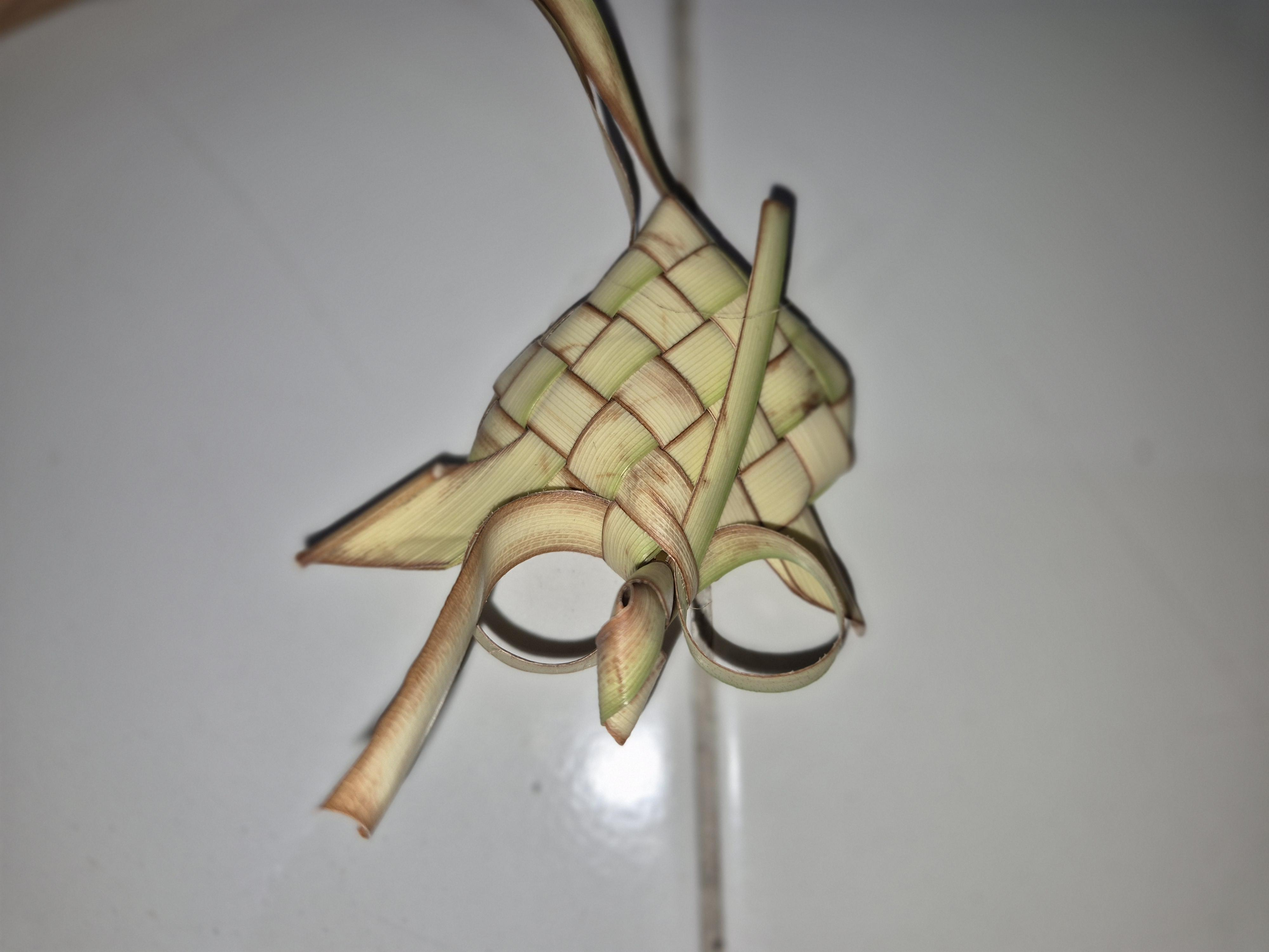Tipat Dampulan: (264, 304, 1114, 727)
